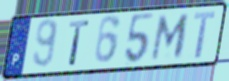5: (123, 11, 157, 67)
6: (93, 13, 123, 70)
9: (32, 18, 59, 73)
M: (149, 13, 192, 62)
T: (192, 10, 217, 60), (68, 19, 91, 68)
